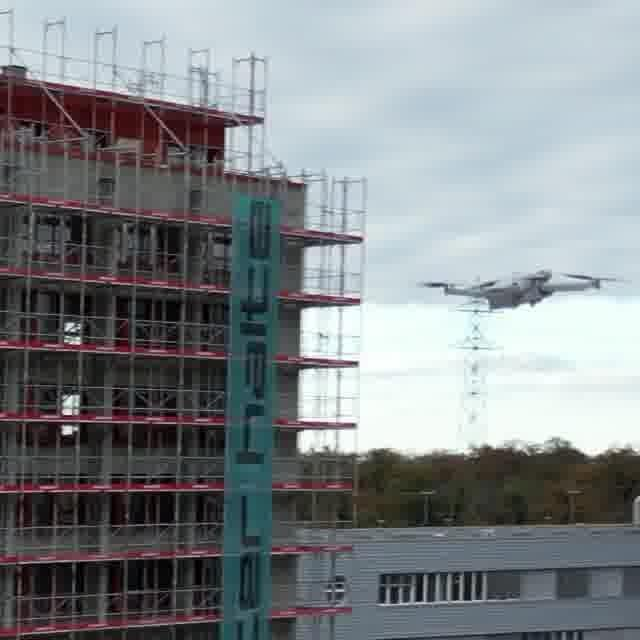Drohne: (419, 269, 621, 310)
